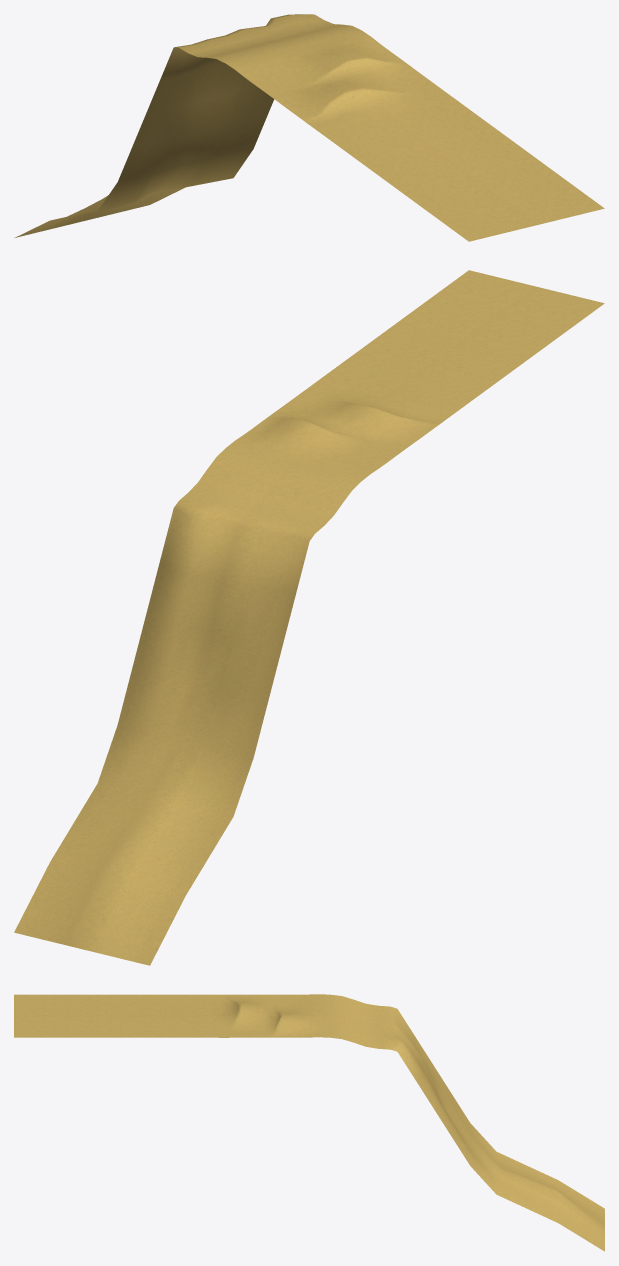
File: beach_tile1.fbx
The picture shows the model from 3 angles, top to bottom: view 1: azimuth 30°, elevation 25°; view 2: azimuth 150°, elevation 25°; view 3: azimuth 270°, elevation 25°; orthographic projection. The views are drawn at different scales.
Visible parts, largest first — view 1: Ground; view 2: Ground; view 3: Ground.
Boxes of the visible parts, box(x1,y1,x2,y2) form: Ground: box(15, 14, 604, 241); Ground: box(14, 270, 604, 965); Ground: box(14, 994, 604, 1251).
Bounding box in the file's own units: 14.8 × 35.21 × 85.75.
